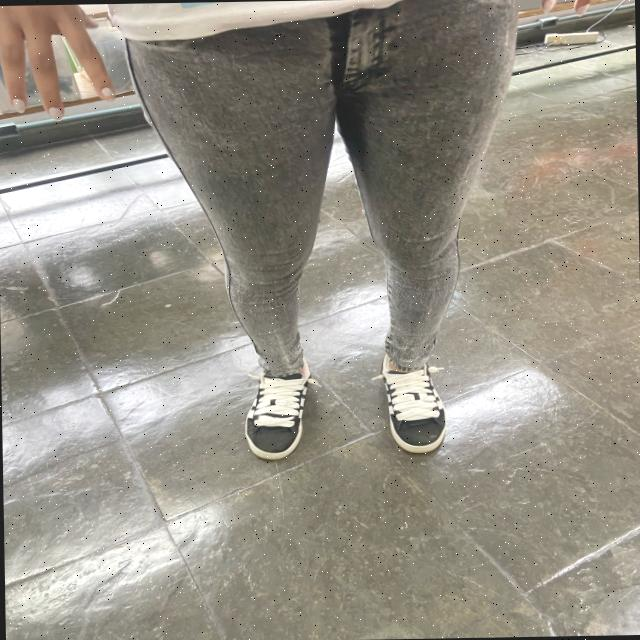SEM BOTA: (232, 351, 323, 464), (370, 347, 455, 455)
